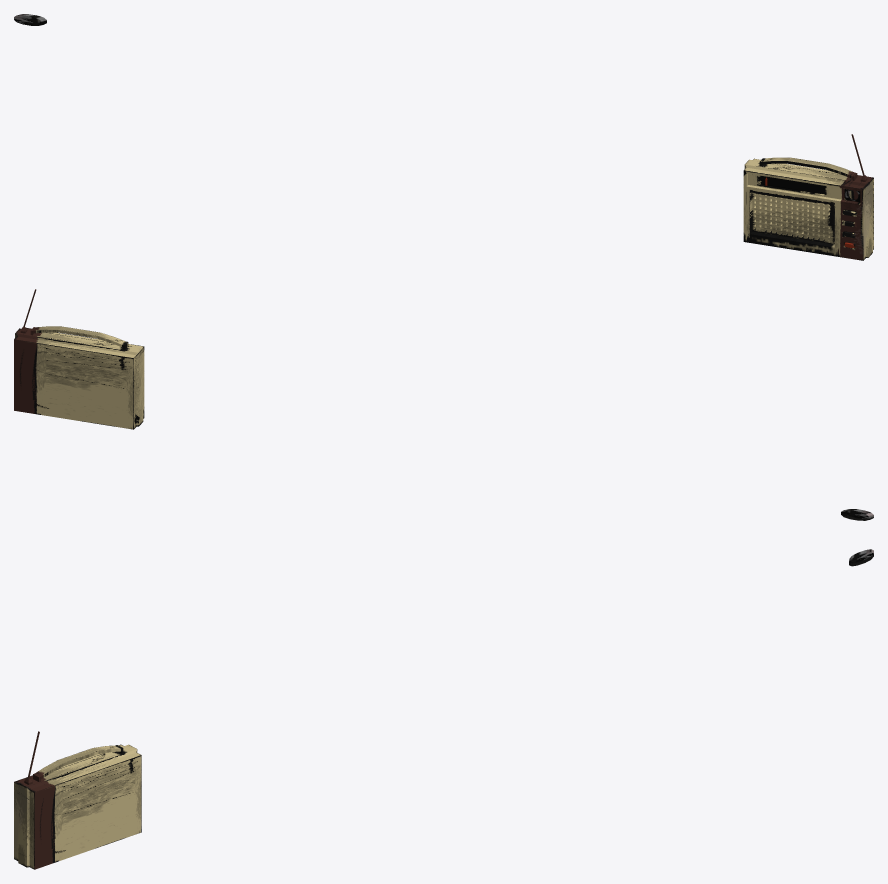
The model's file is radio.gltf.
3 renders of one model, top to bottom at view 1: azimuth 30°, elevation 25°; view 2: azimuth 210°, elevation 25°; view 3: azimuth 270°, elevation 25°, orthographic. The views are drawn at different scales.
Parts seen in each view (by area): view 1: Radio; view 2: Radio; view 3: Radio.
Boxes of the visible parts, x1,y1,x2,y2 form: Radio: (743, 134, 873, 260); Radio: (14, 289, 144, 429); Radio: (14, 731, 141, 869).
Size of the model in its own units: 24.17 by 5.77 by 35.14.
Materials: 1 (1 with a texture image).
